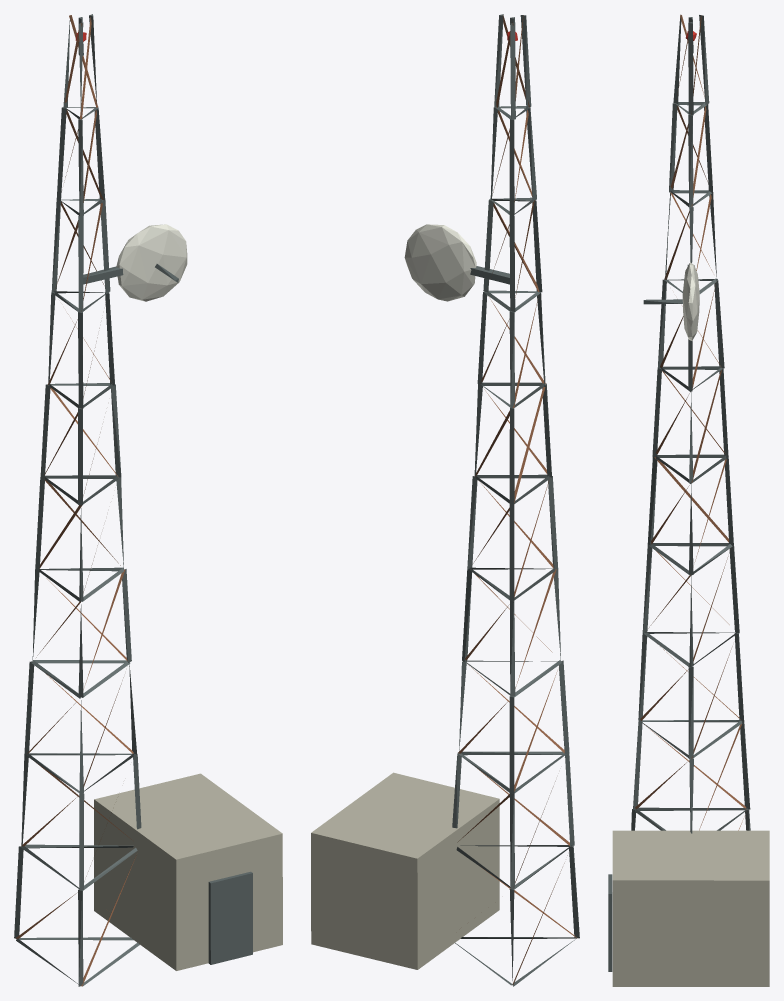
Rendered from radio_tower_low.glb.
3 views of the same model, side by side, from view 1: azimuth 30°, elevation 25°; view 2: azimuth 150°, elevation 25°; view 3: azimuth 270°, elevation 25° (orthographic). The views are drawn at different scales.
Visible parts, largest first — view 1: radio_tower.001; view 2: radio_tower.001; view 3: radio_tower.001.
Boxes of the visible parts, x1=… form: radio_tower.001: x1=14, y1=14, x2=282, y2=986; radio_tower.001: x1=311, y1=14, x2=579, y2=986; radio_tower.001: x1=608, y1=14, x2=769, y2=986.
Bounding box in the file's own units: 5.46 × 25.05 × 4.09.
